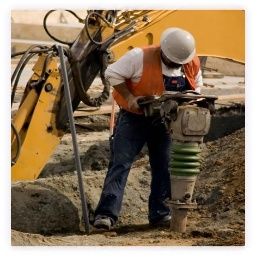helmet: (156, 25, 203, 65)
person: (99, 24, 210, 226)
